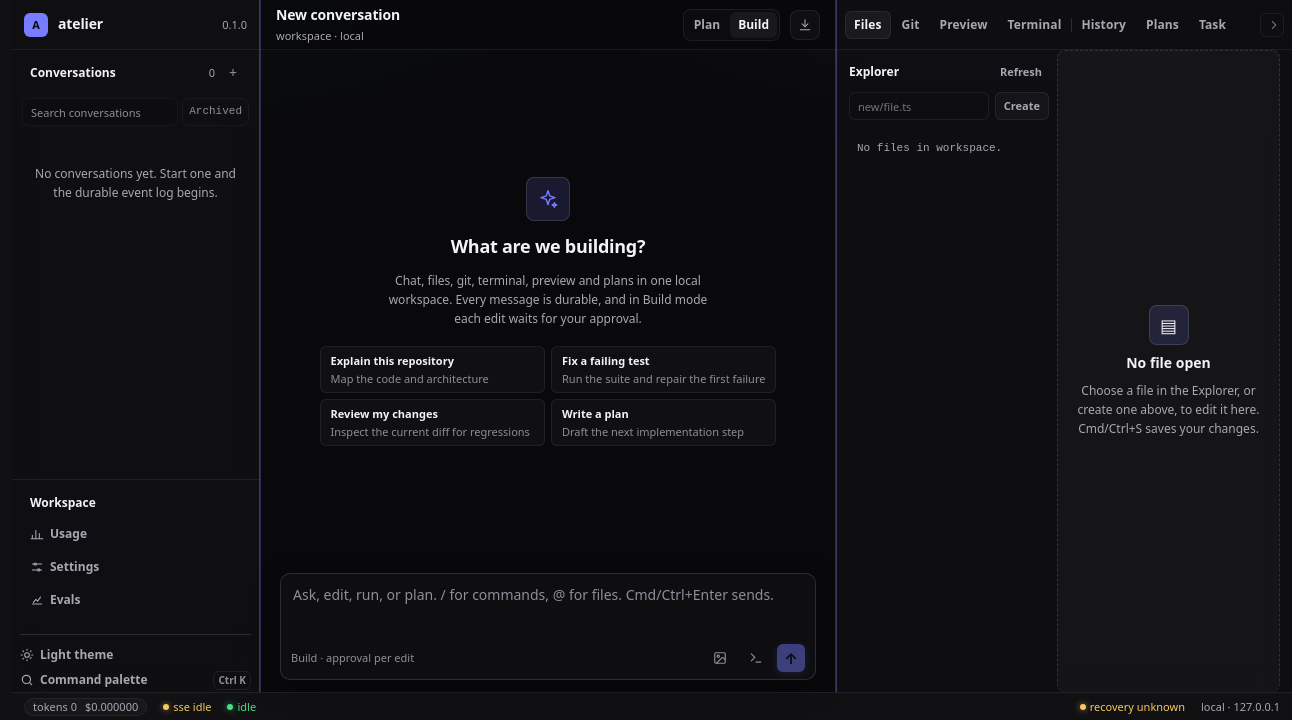
Test case: task panel › renders inside the Task workspace tab
The image size is (1292, 720).
Expected: the heading "What are we building?" is shown, left=451, top=233, right=645, bottom=259
Click the tab with test id "tab-task" at (1212, 24), box left=1190, top=10, right=1235, bottom=38
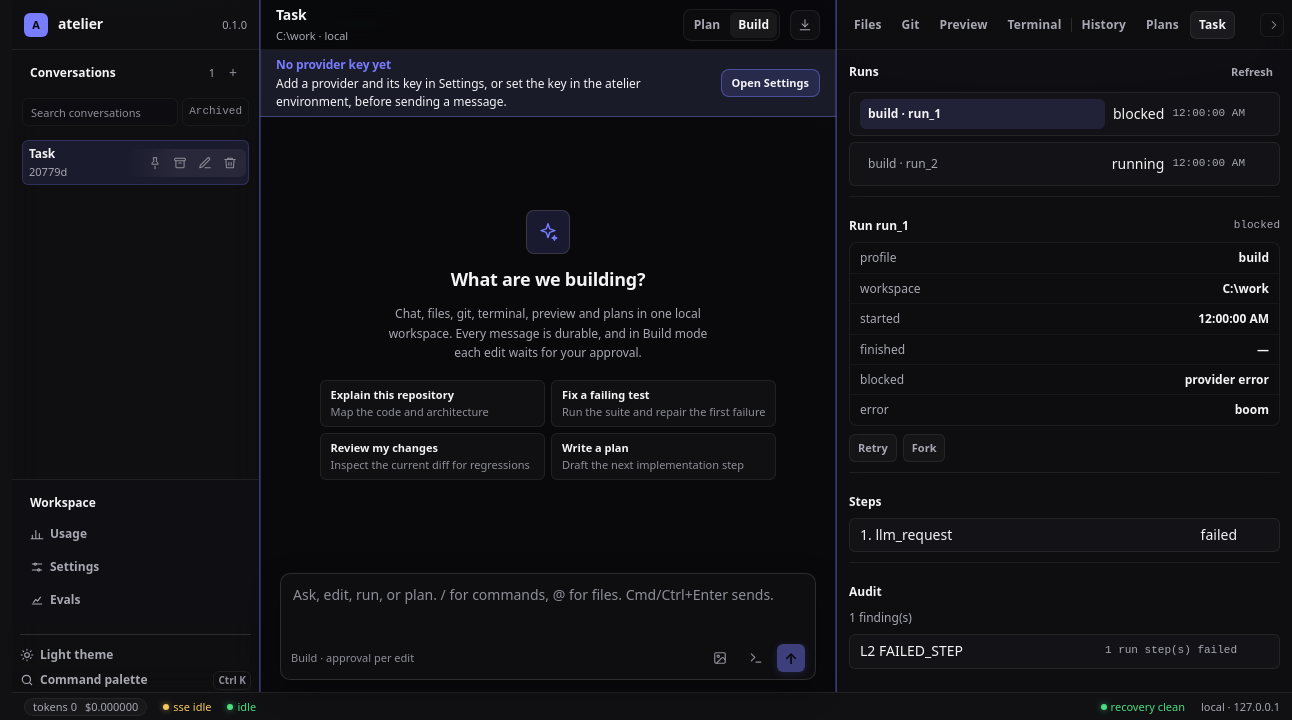
Now the element with test id "task-panel" is shown, box left=849, top=50, right=1280, bottom=678
